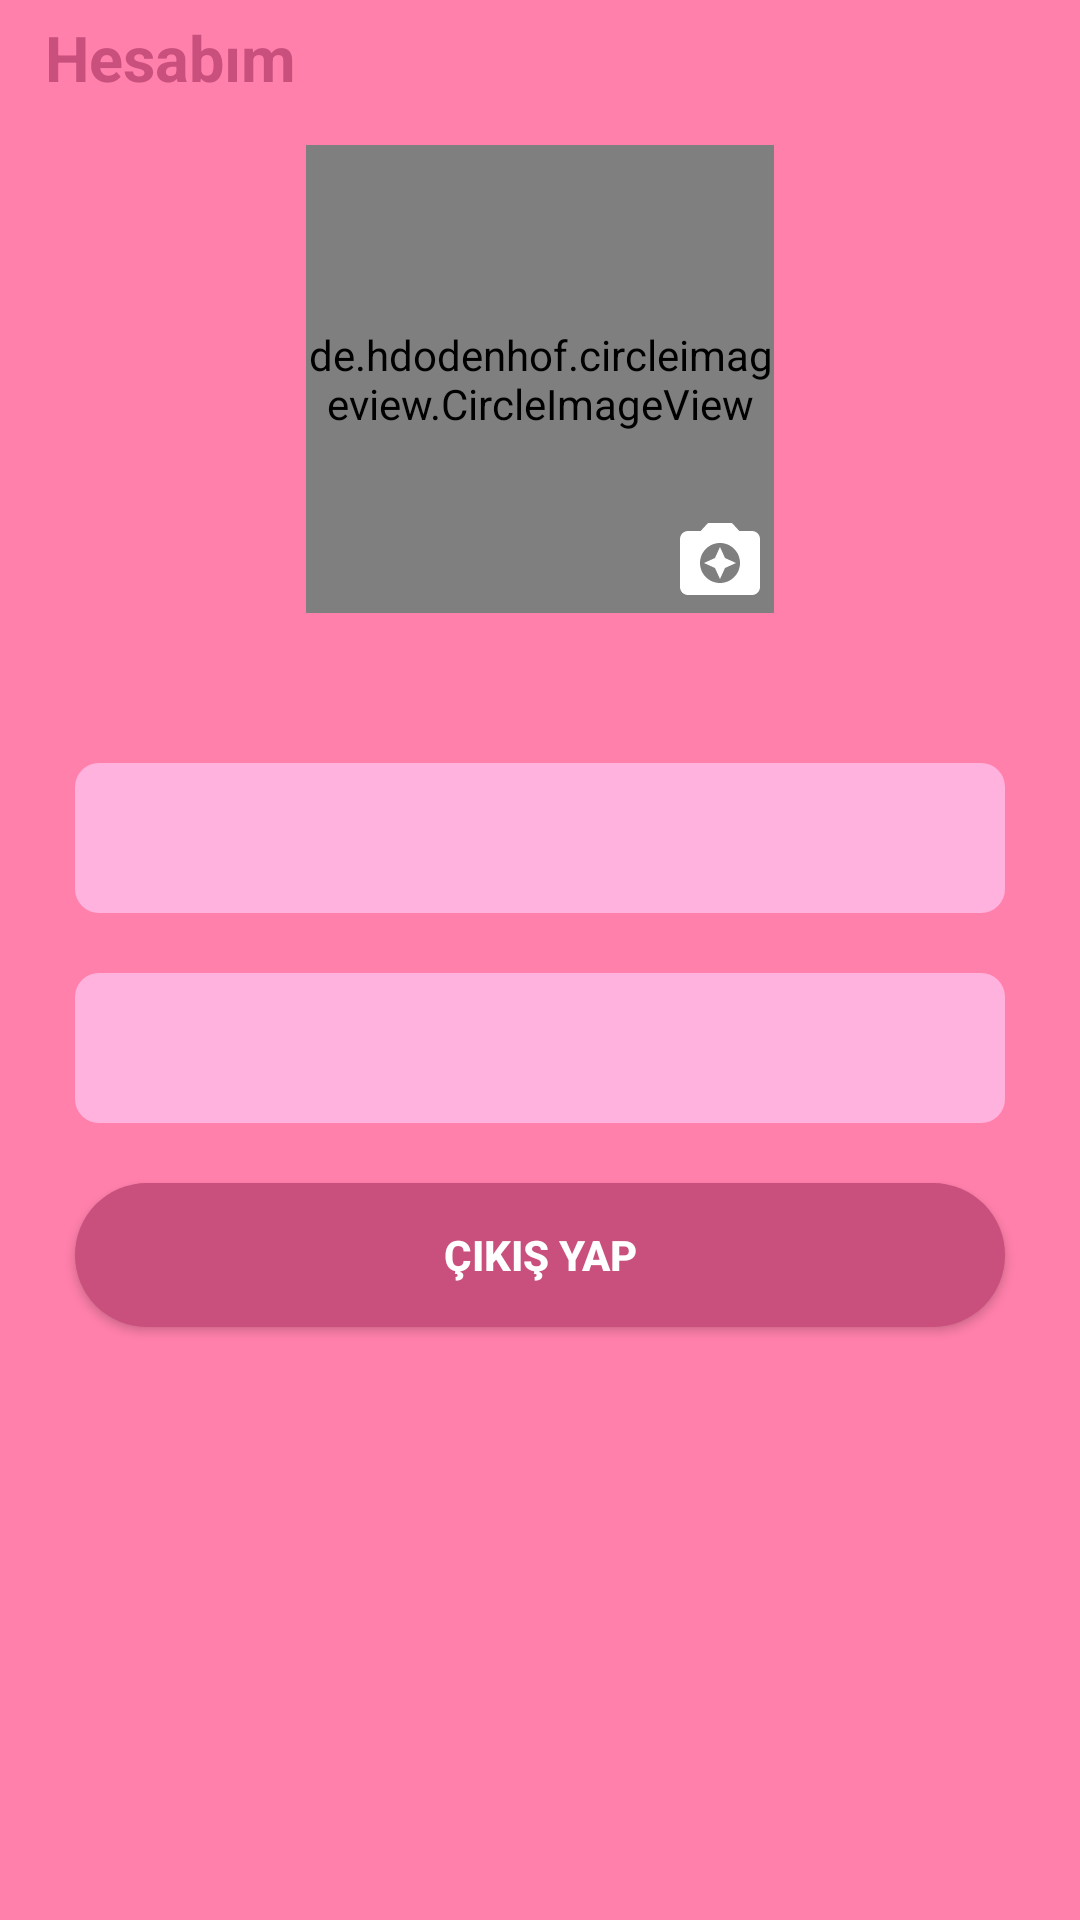

Named icons in this screenshot (1080w x 1920h) and their bounding boxes, (x1, y1, x2, y2):
camera: (680, 523, 760, 595)
